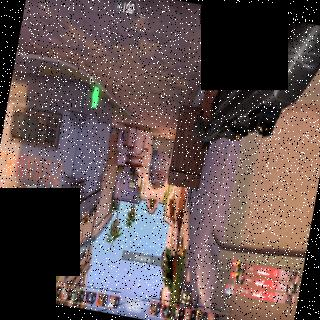ENEMY-BODY: (120, 130, 126, 145)
ENEMY-HEAD: (121, 142, 122, 144)
